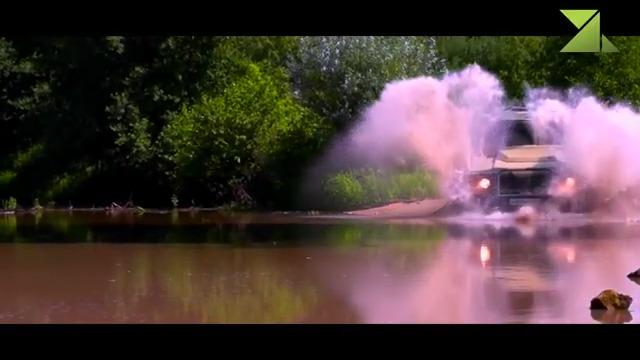MIL_HMMWV: (465, 106, 590, 215)
